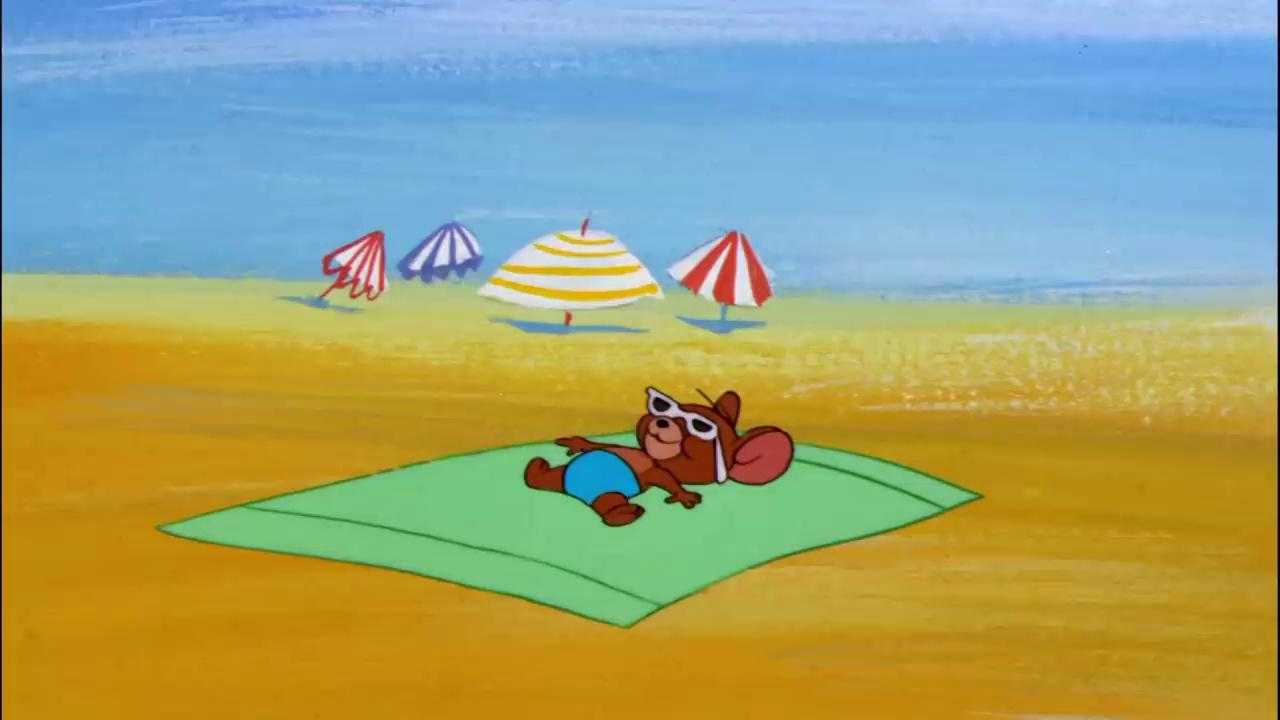Jerry: (523, 385, 797, 528)
